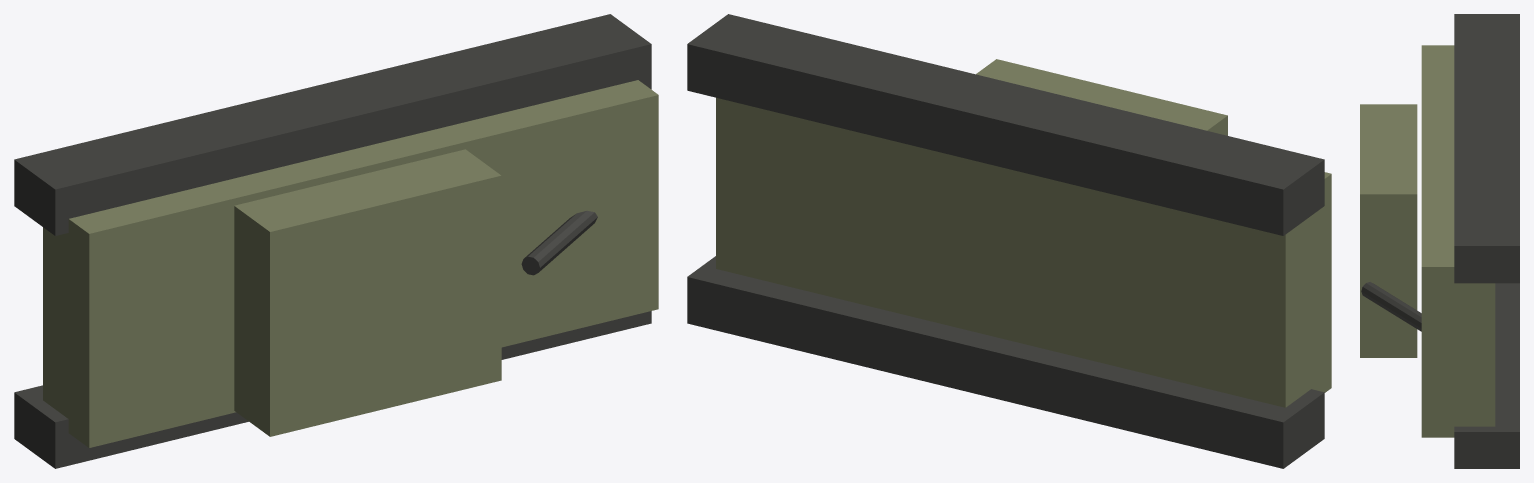
File: dummy_arty.glb
The picture shows the model from 3 angles, left to right: view 1: azimuth 30°, elevation 25°; view 2: azimuth 150°, elevation 25°; view 3: azimuth 270°, elevation 25°; orthographic projection. The views are drawn at different scales.
Visible parts, largest first — view 1: geometry_0; view 2: geometry_0; view 3: geometry_0.
Part boxes in pixels (bbox=[...]): geometry_0: bbox=[14, 14, 658, 468]; geometry_0: bbox=[687, 14, 1331, 468]; geometry_0: bbox=[1360, 14, 1519, 468].
Bounding box in the file's own units: 6.7 × 3 × 1.95.
